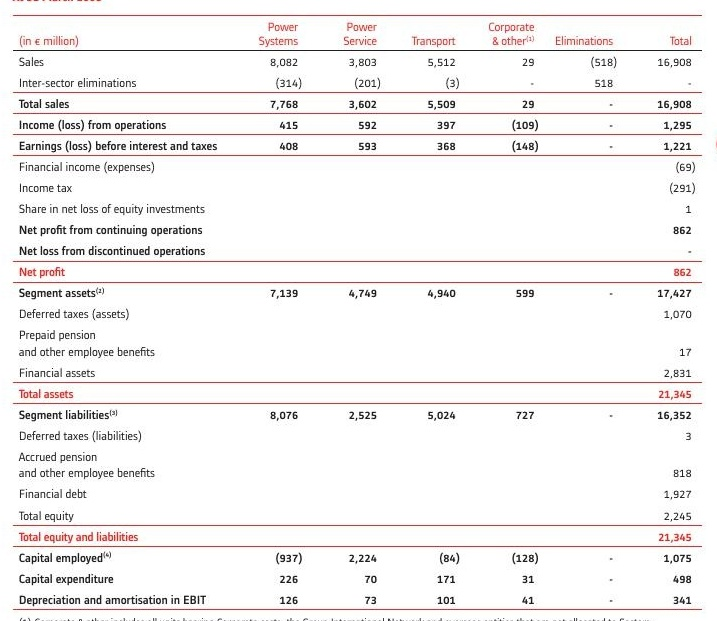table: (0, 0, 717, 621)
